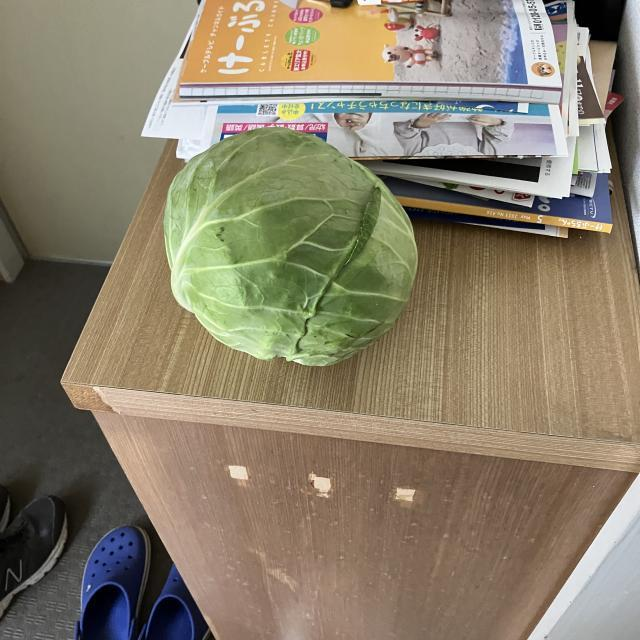cabbage: (160, 125, 420, 373)
